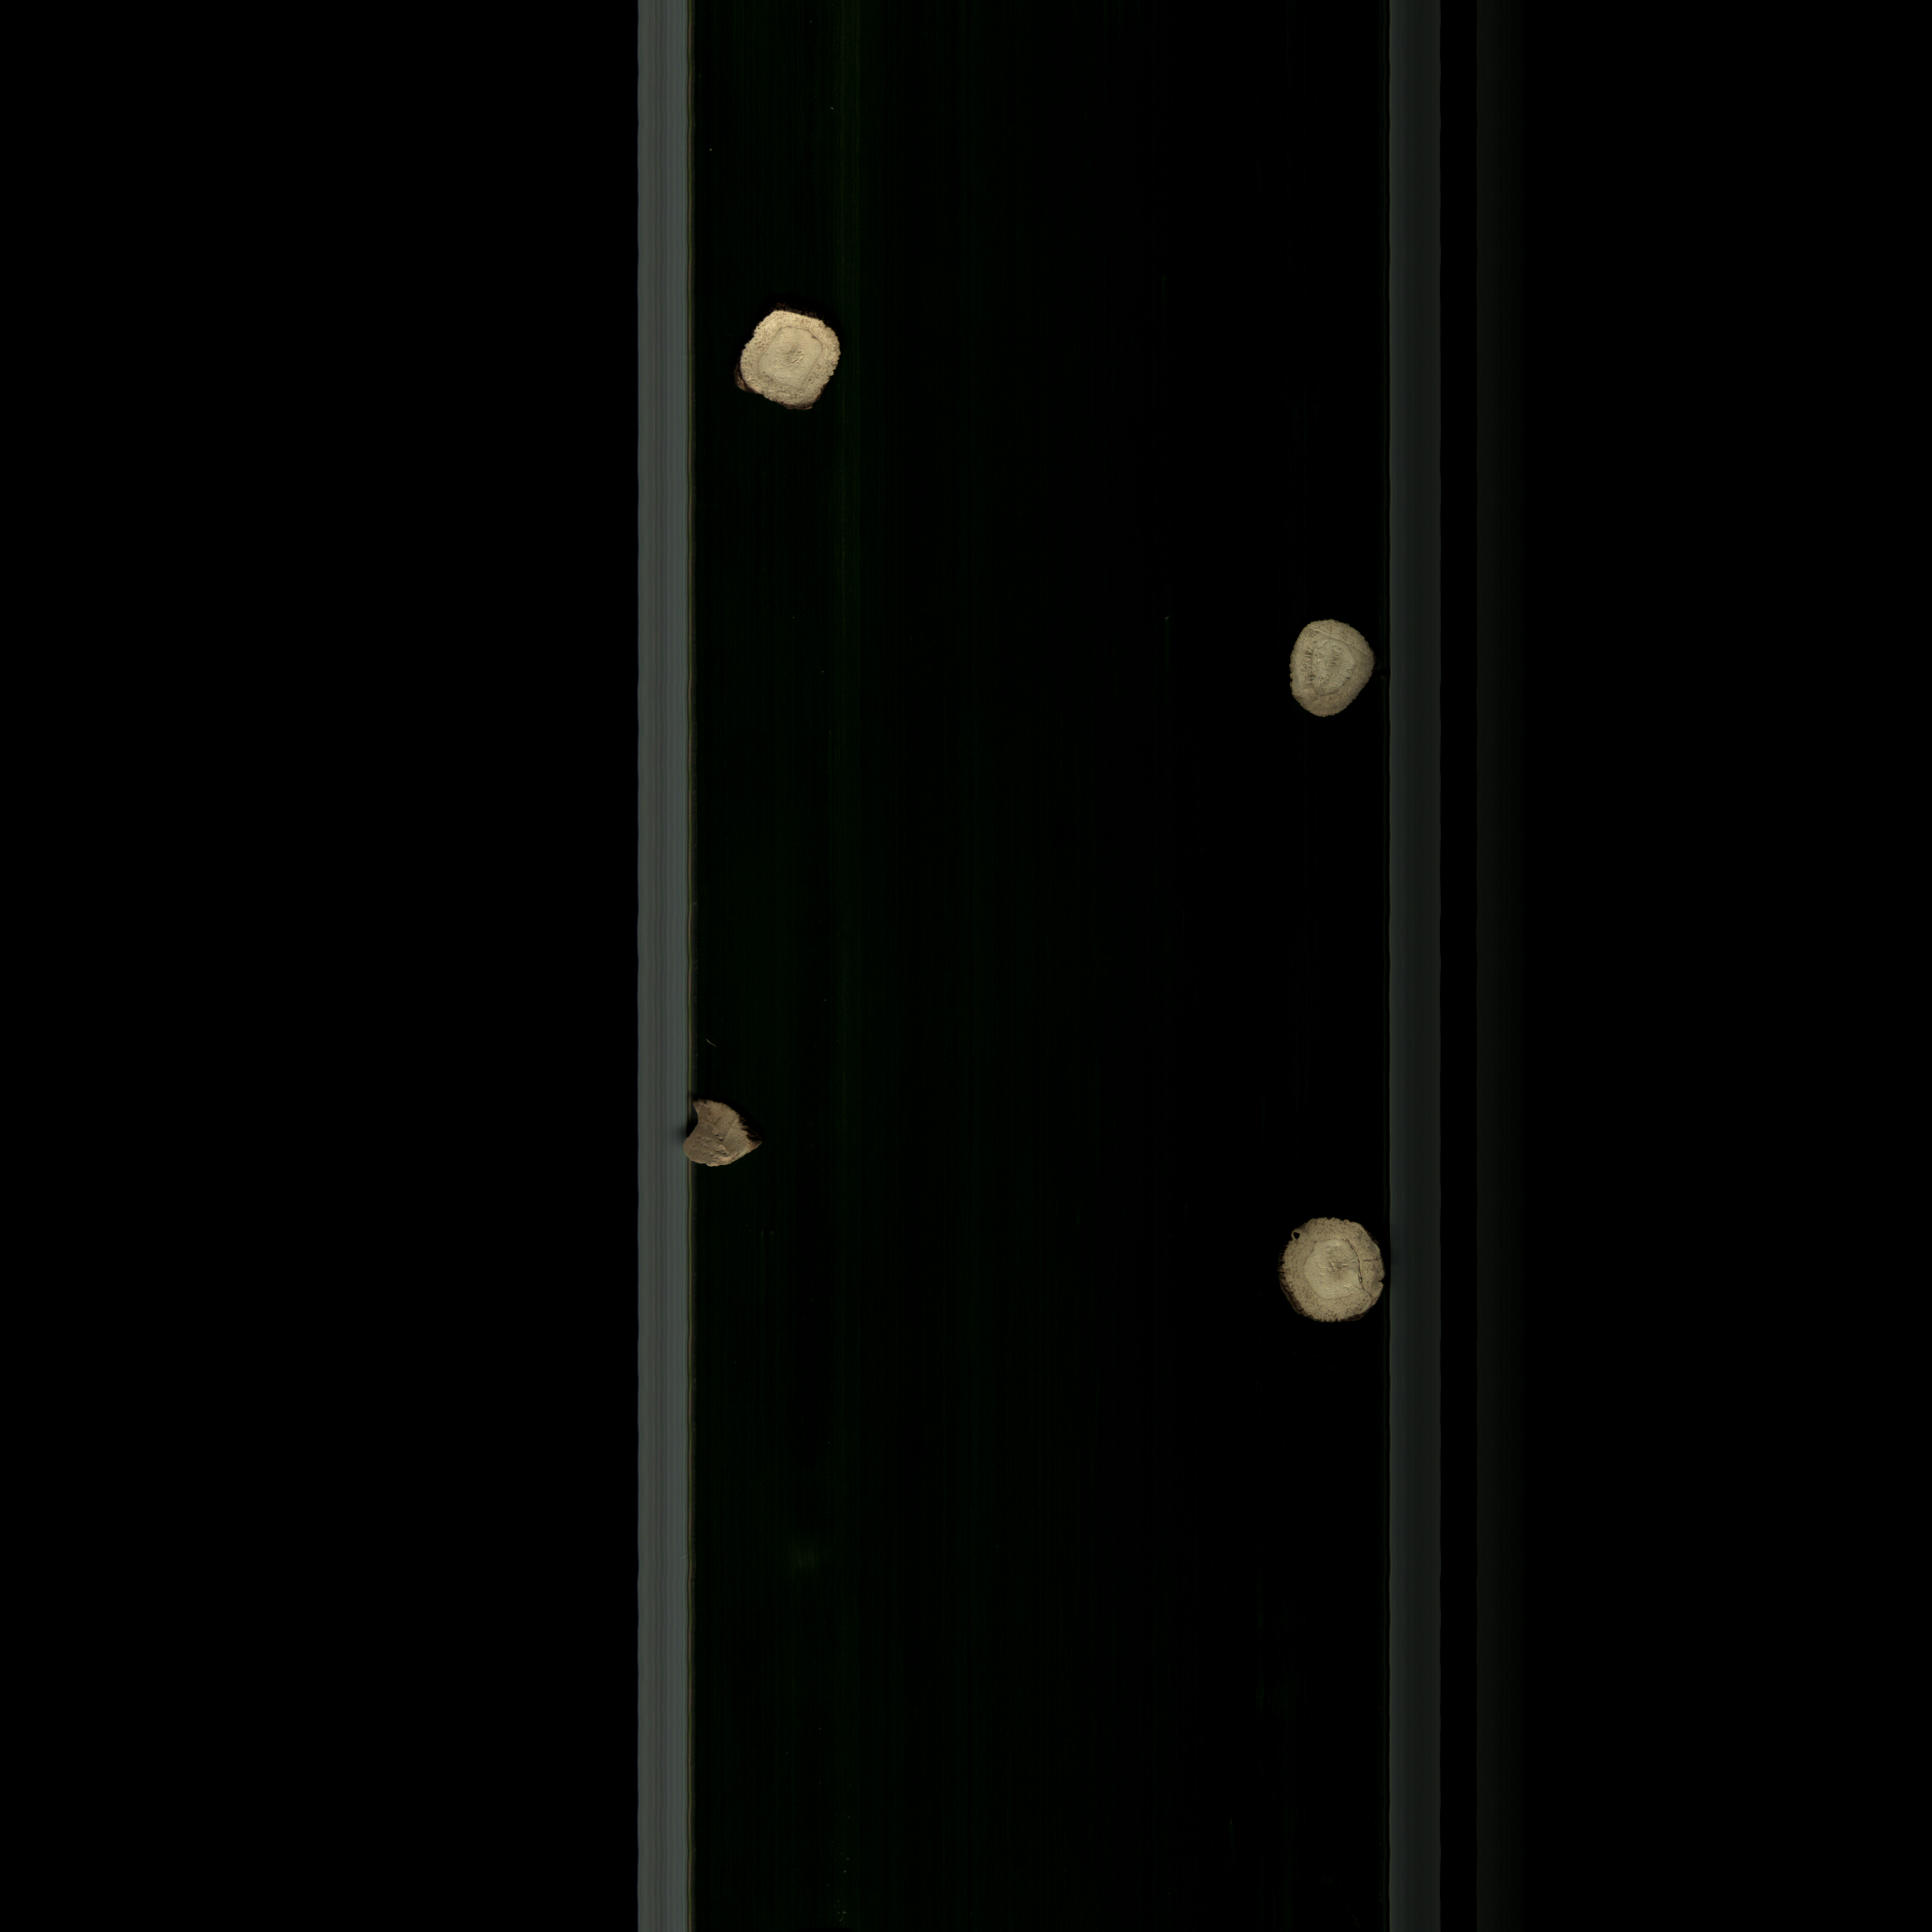hole: (1254, 1205, 1403, 1330)
moldy: (669, 1088, 780, 1180)
